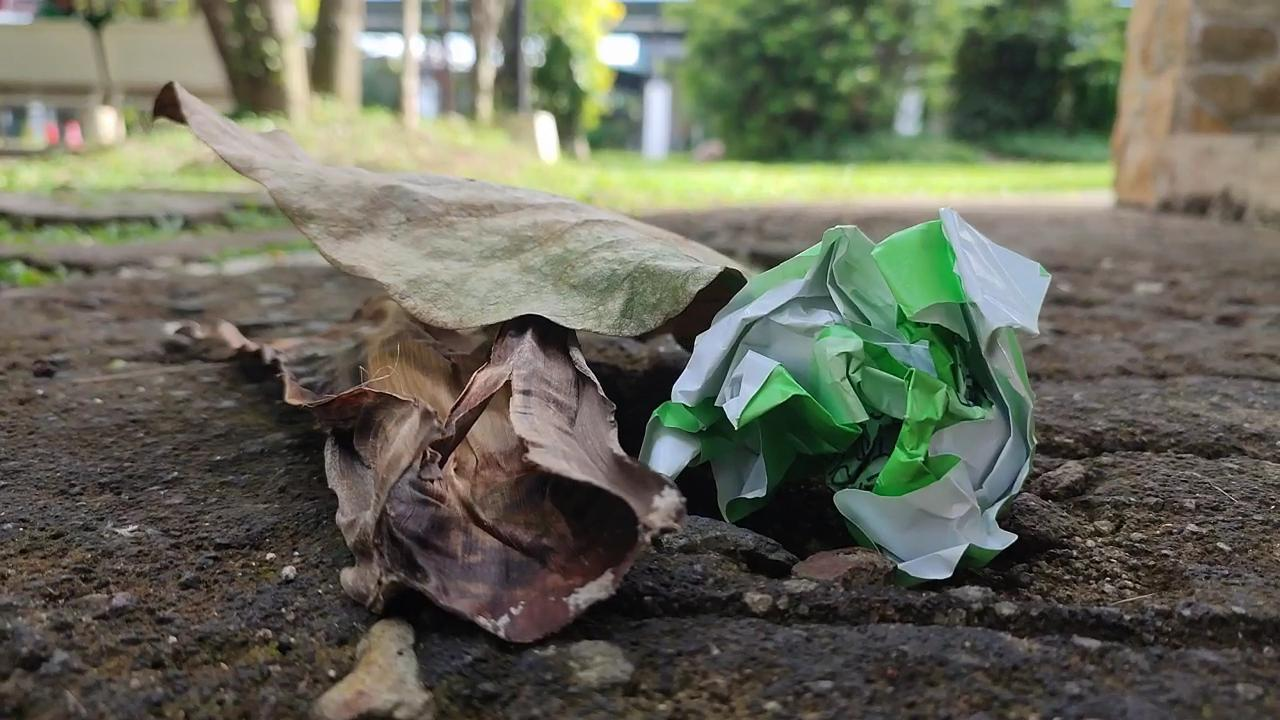Paper: (649, 224, 1069, 577)
